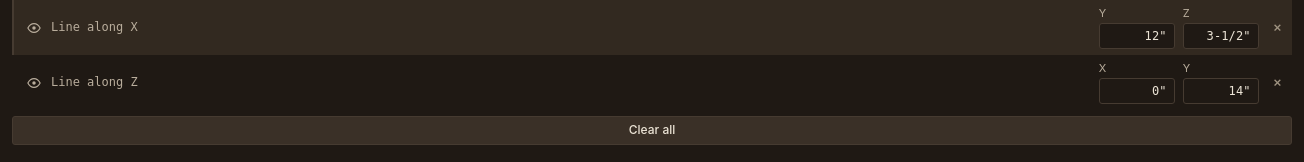
GuidesList editing (construction-lines-2 spec §5) › selection (fu 591) › typing in a field and clicking x leave the selection alone
Click the button "Line along X" at (94, 27), box [51, 19, 1091, 36]
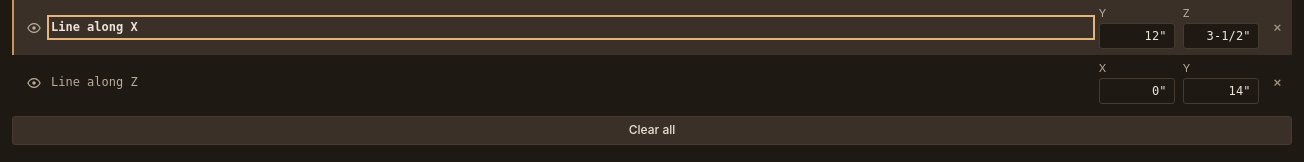
Replace the text in the field named "Y of line along X at Y 12\", Z 3-1/2\"" with "13" at (1137, 36), box [1099, 23, 1175, 49]
Then press Enter
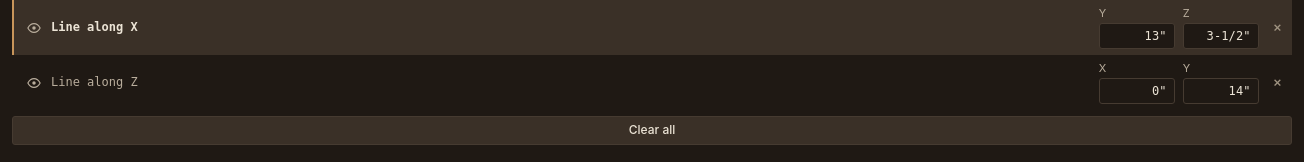
Click the button named "Remove line along Z" at (1277, 82), box [1267, 71, 1288, 94]
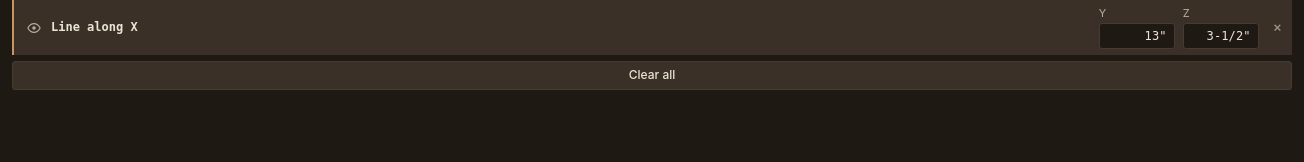
Now the button "Line along Z" is gone
